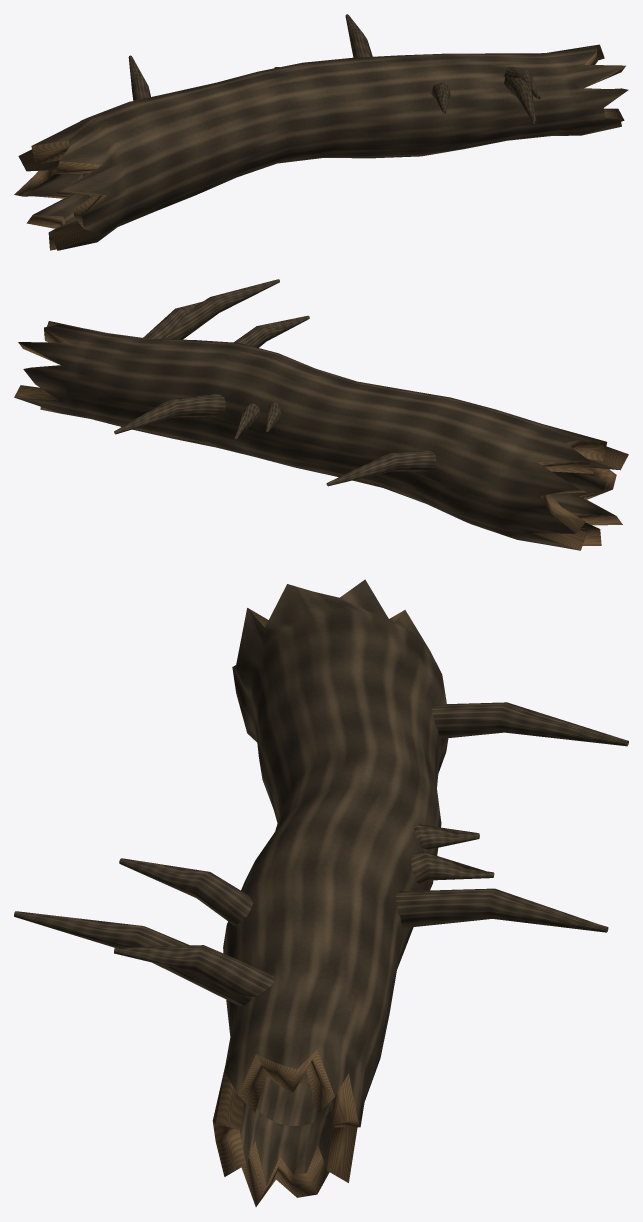
File: FallenHollowLog_A.fbx
3 renders of one model, top to bottom at view 1: azimuth 30°, elevation 25°; view 2: azimuth 150°, elevation 25°; view 3: azimuth 270°, elevation 25°, orthographic. The views are drawn at different scales.
Visible parts, largest first — view 1: FallenHollowLog_A_LOD0; view 2: FallenHollowLog_A_LOD0; view 3: FallenHollowLog_A_LOD0.
Part boxes in pixels (x1=…): FallenHollowLog_A_LOD0: x1=14, y1=14, x2=628, y2=250; FallenHollowLog_A_LOD0: x1=14, y1=279, x2=628, y2=550; FallenHollowLog_A_LOD0: x1=14, y1=579, x2=628, y2=1206.
Size of what is drawn, in the model's own units: 5.14 by 0.9897 by 2.83.
